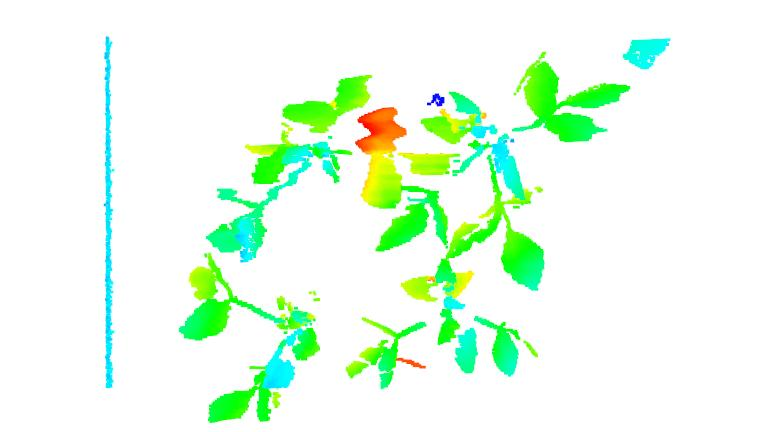mungbean: (377, 37, 672, 292), (200, 62, 396, 263), (350, 258, 539, 393), (187, 253, 322, 423)
